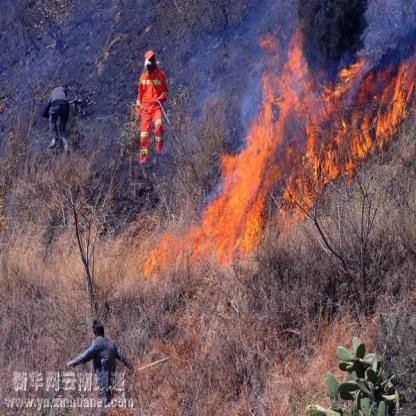fire: (182, 29, 414, 266)
other: (129, 43, 169, 160)
